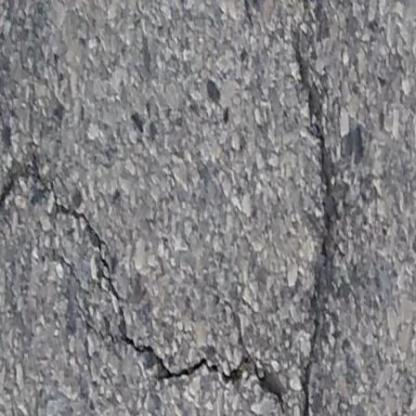Cracks: (0, 142, 235, 352), (264, 3, 383, 416), (9, 295, 358, 416)
